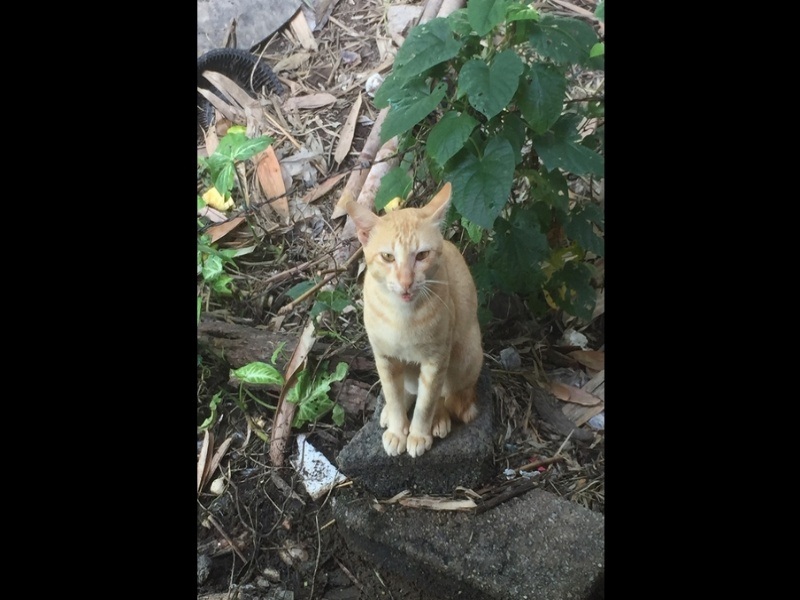cat: (343, 182, 482, 455)
